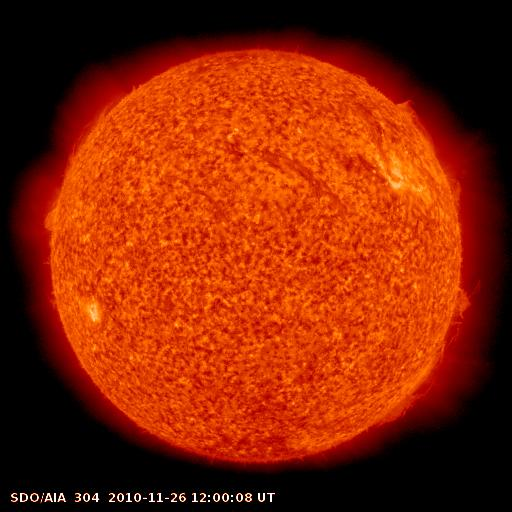prominence: (365, 273, 487, 438), (70, 78, 140, 157), (396, 90, 443, 149), (440, 167, 481, 221), (32, 186, 65, 246)
